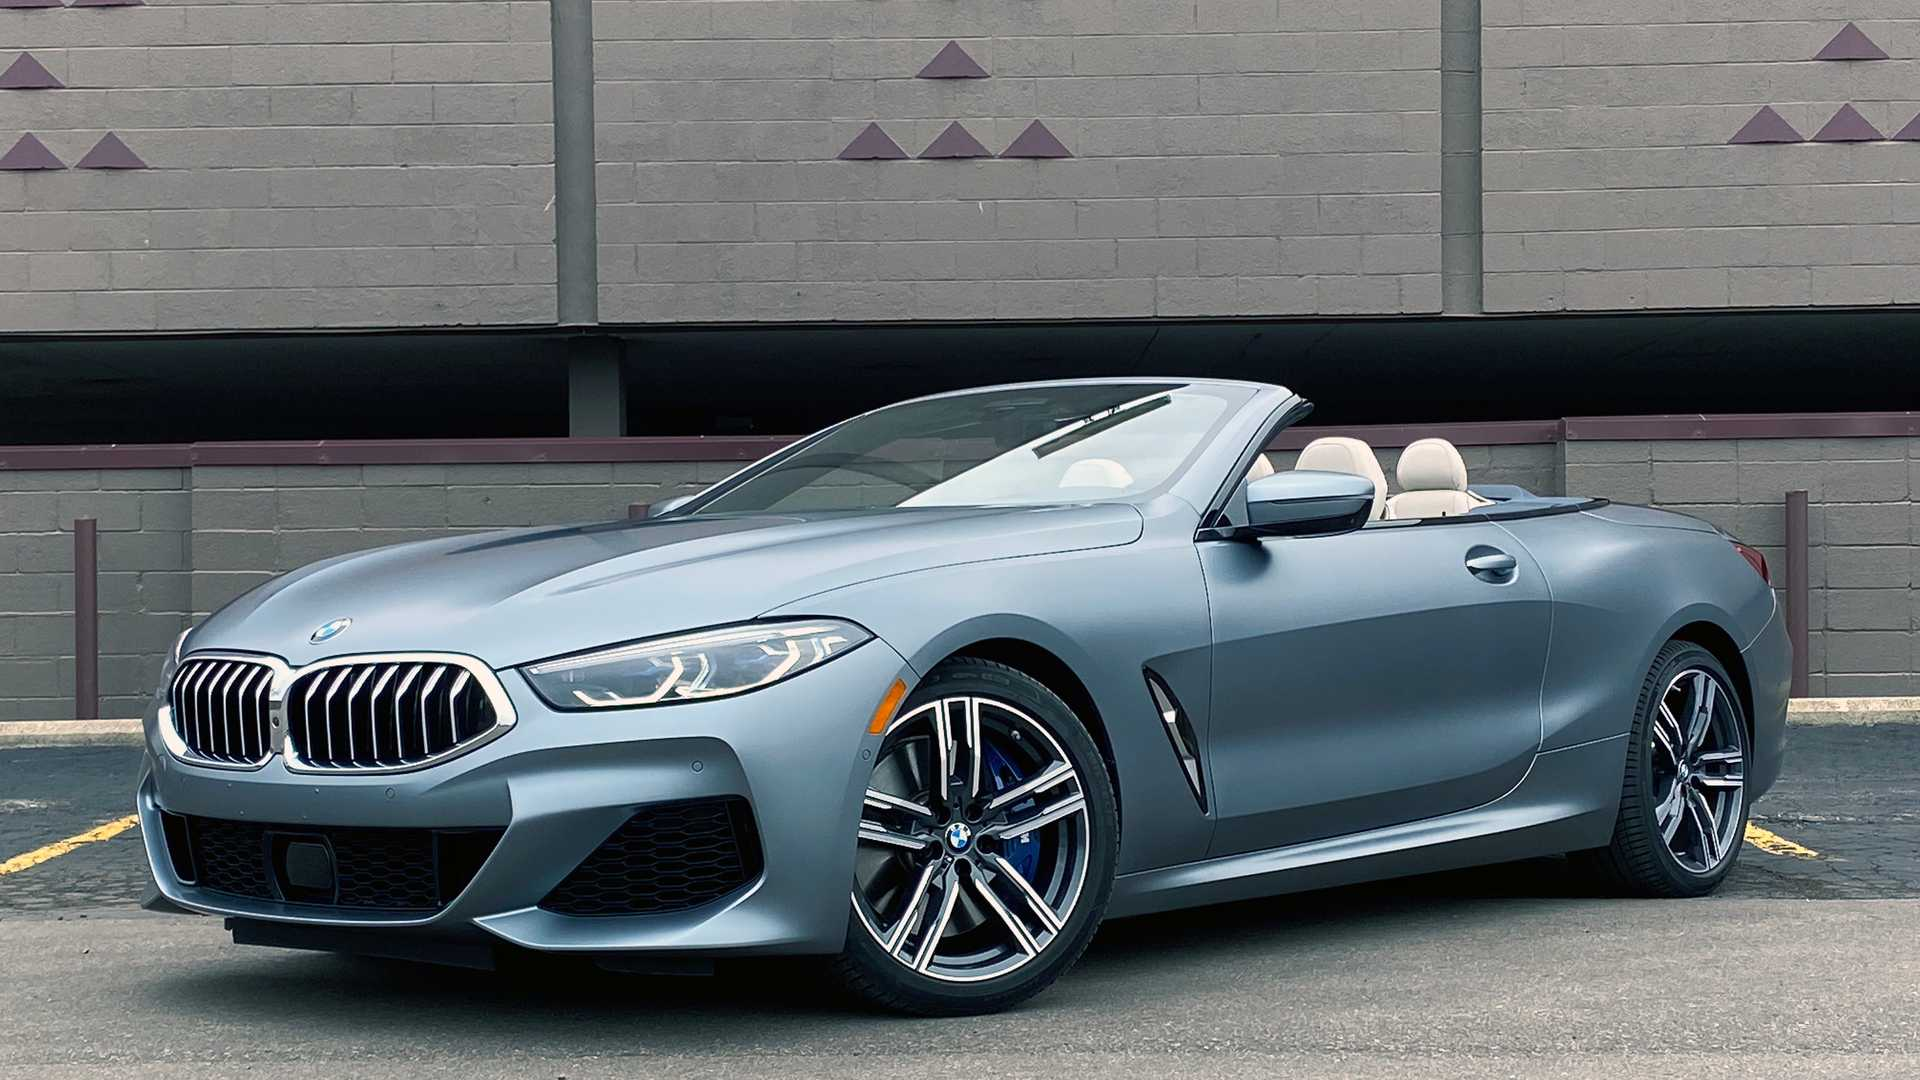car: (135, 372, 1796, 1017)
